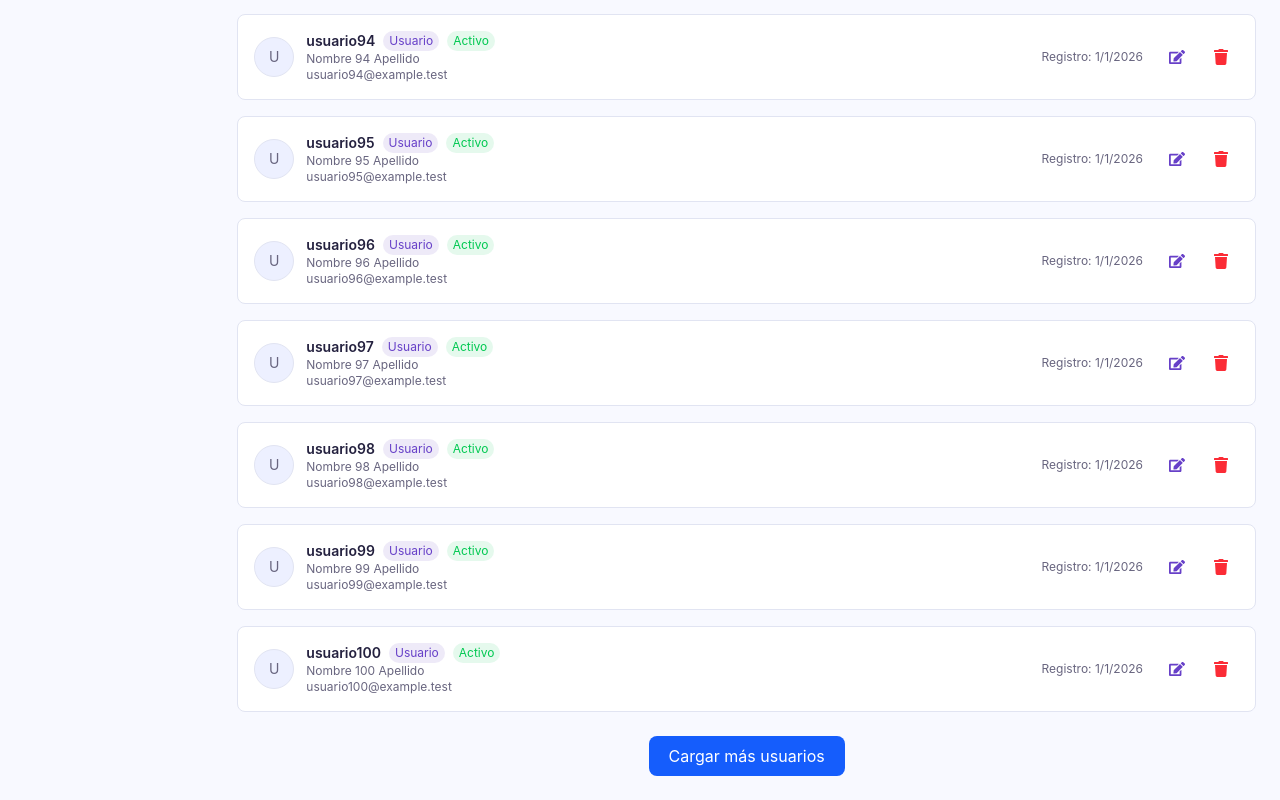
Test: administración de usuarios paginada › permite buscar y editar la cuenta 101 sin perder la segunda página ni duplicar cuentas
(page scrolled)
Click the button "Cargar más usuarios": (747, 756) [649, 736, 845, 776]
(page scrolled)
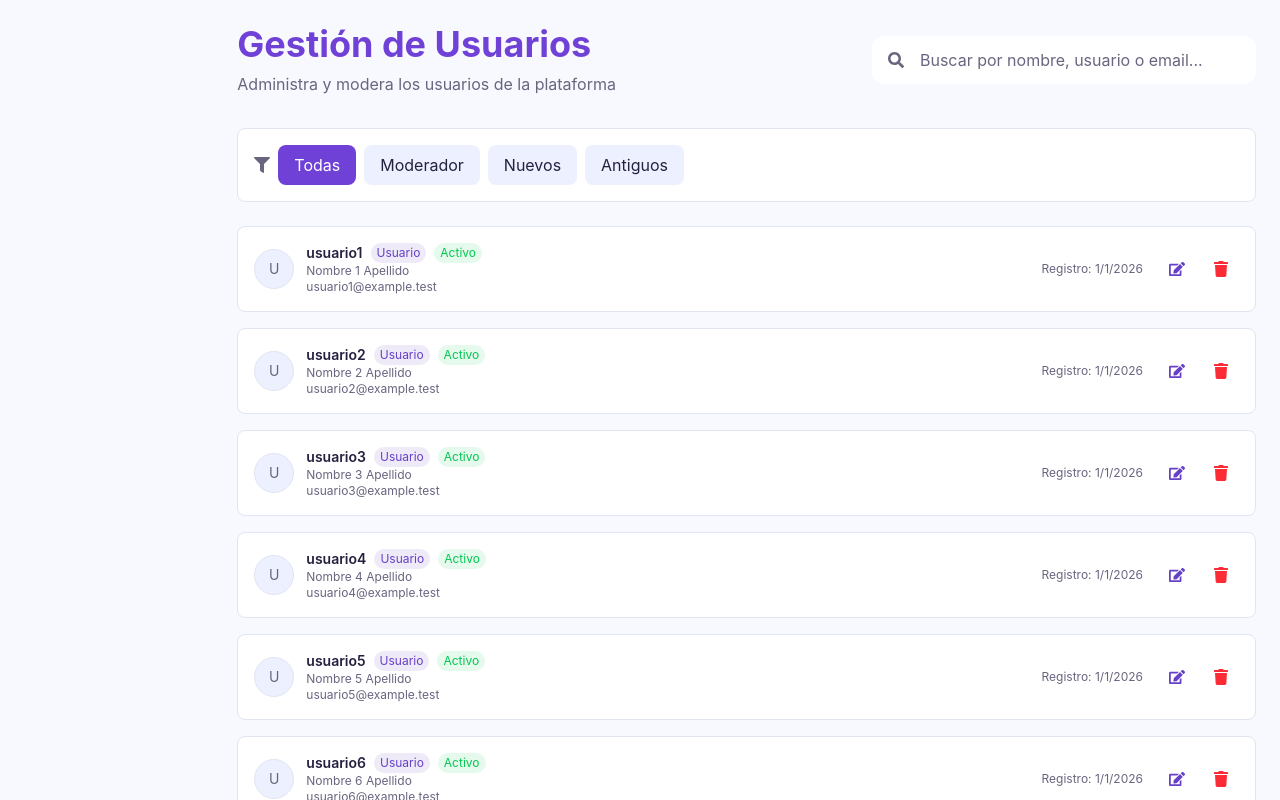
Result: the number of buttons titled "Editar usuario" is 101
In the field with placeholder "Buscar por nombre, usuario o email...": (1064, 60) [872, 36, 1256, 84], type "usuario101"
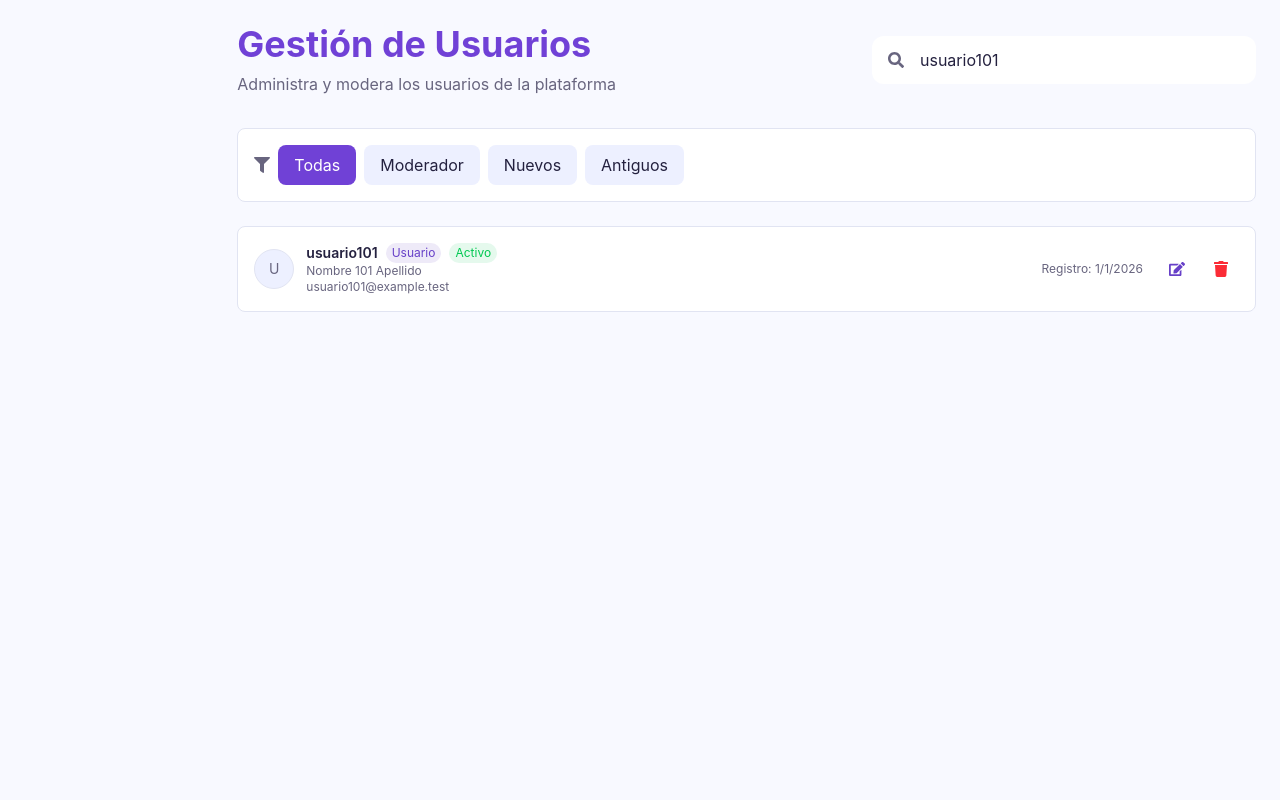
Click the button titled "Editar usuario": (1177, 269) [1159, 251, 1195, 287]
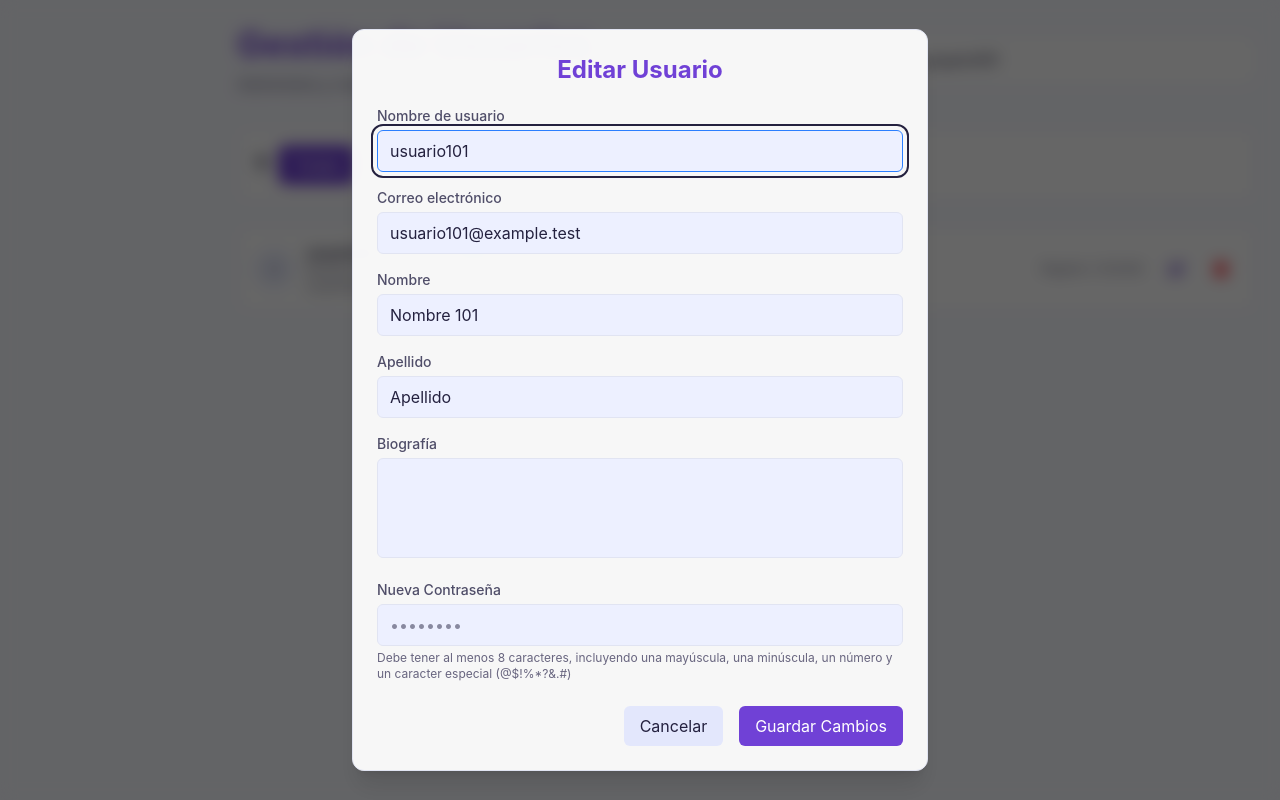
Replace the text in the field labelled "Nombre" with "Nombre editado": (640, 315) [377, 294, 903, 336]
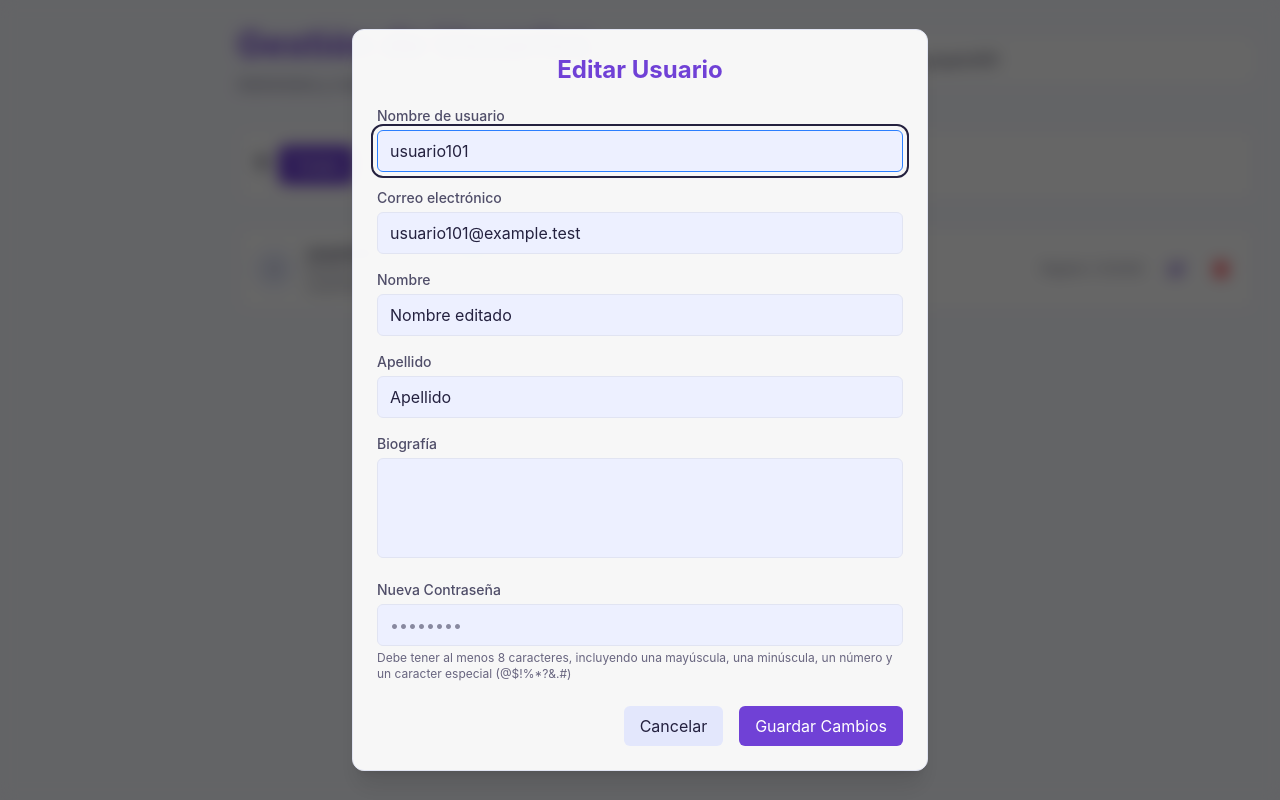
Click the button "Guardar Cambios": (821, 726) [739, 706, 903, 746]
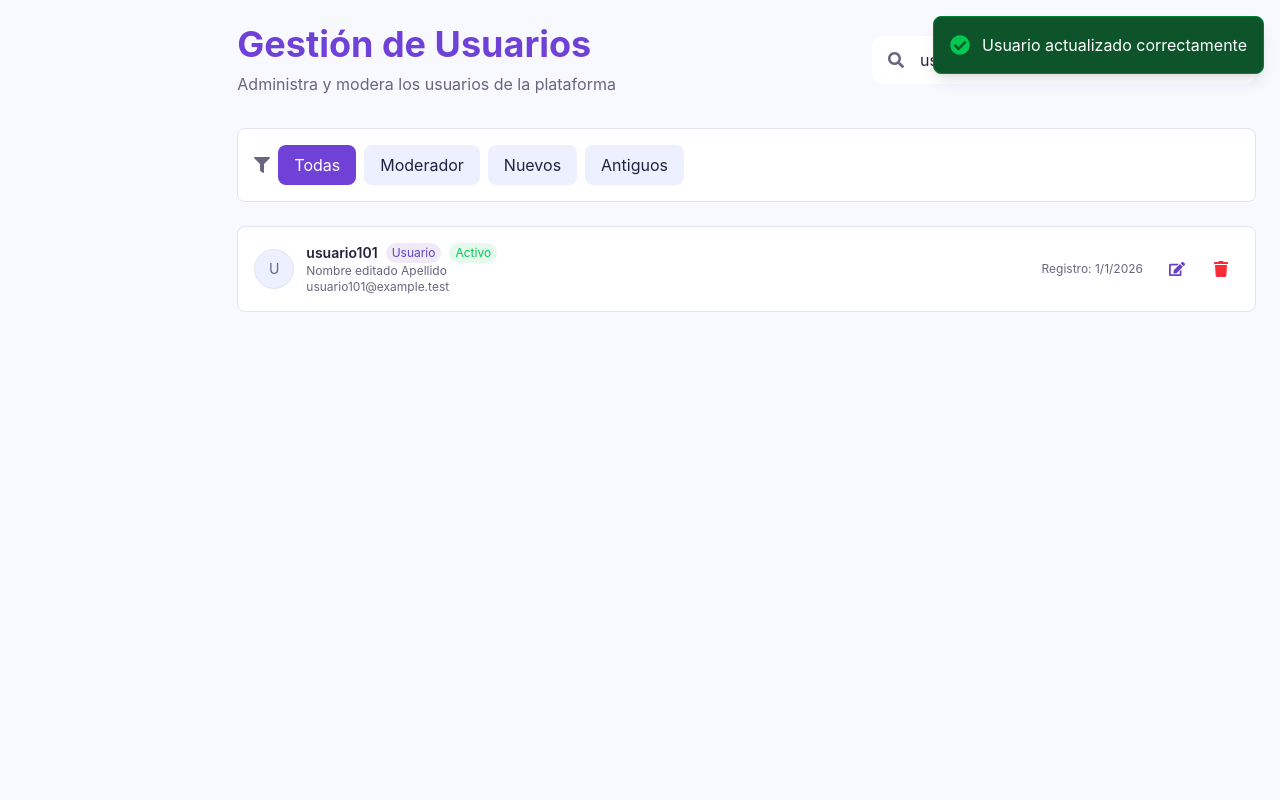
Result: the number of buttons titled "Editar usuario" is 1 at [1159, 251, 1195, 287]
Result: the text "Nombre editado Apellido" is shown at [306, 263, 447, 278]
